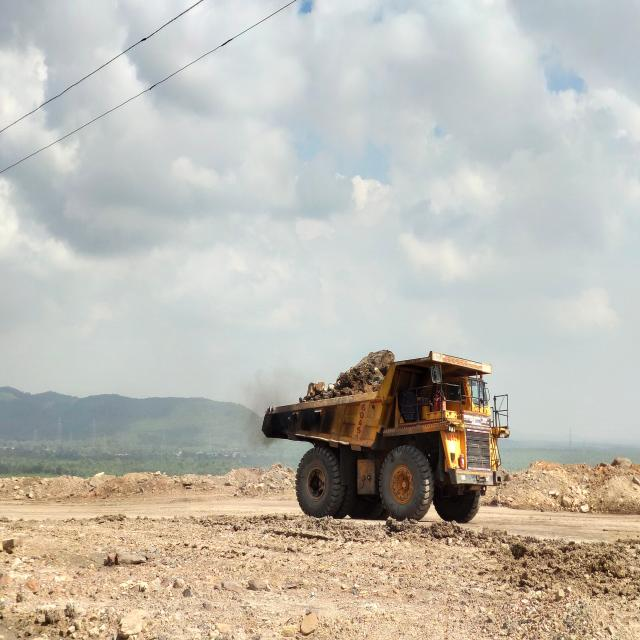dump_truck: (262, 352, 508, 526)
